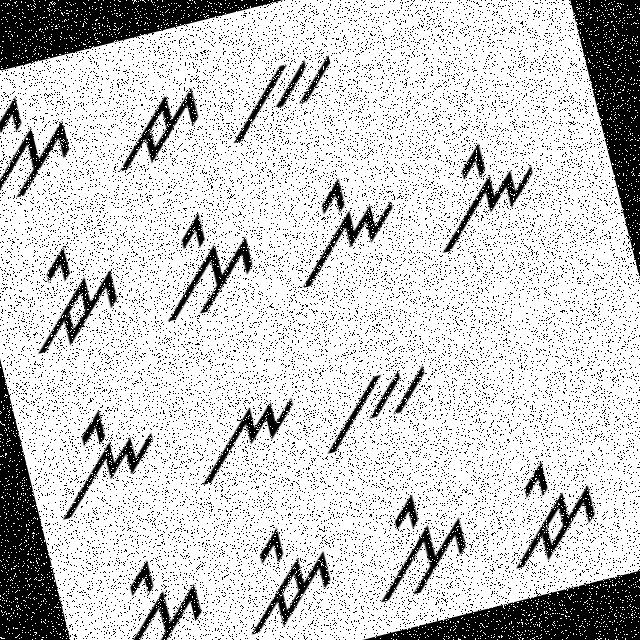ja: (92, 64, 213, 180)
ji: (0, 229, 135, 366), (219, 509, 350, 639), (490, 445, 611, 577)
nya: (176, 376, 312, 494)
nyi: (415, 118, 563, 262), (30, 388, 176, 526), (278, 164, 416, 294)
si: (356, 479, 486, 612), (144, 195, 268, 330), (74, 544, 219, 639), (0, 83, 86, 218)
